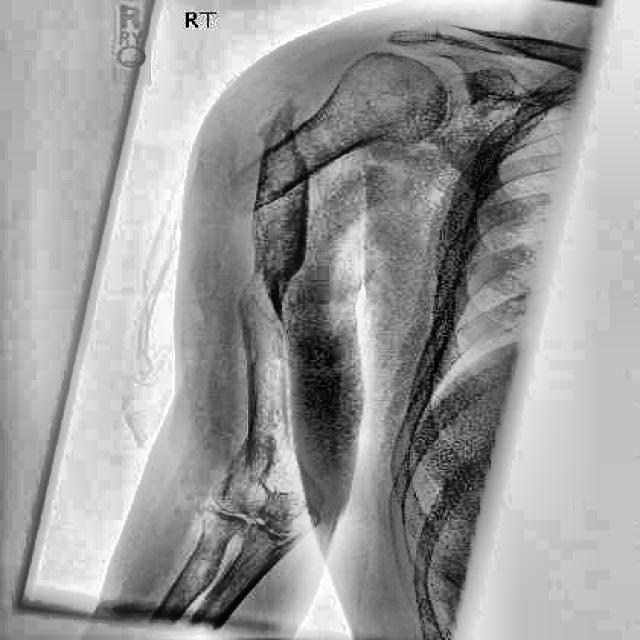humerus: (217, 81, 362, 250), (190, 260, 340, 371)
